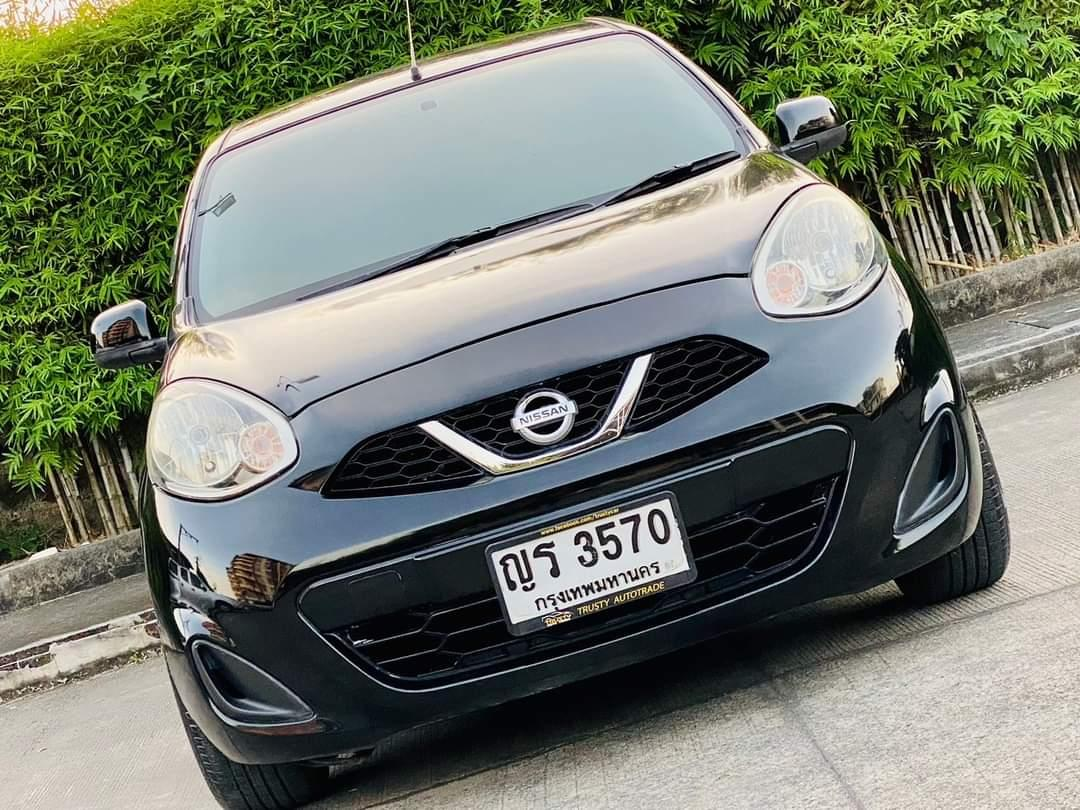license-plate: (484, 484, 700, 643)
